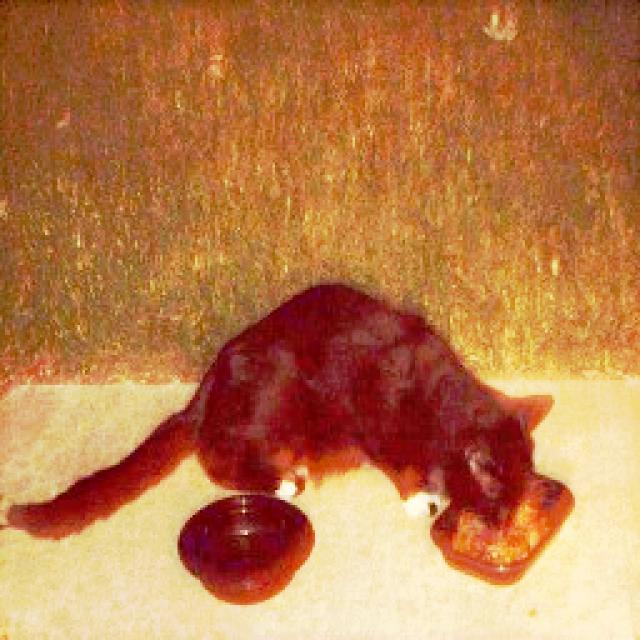cat: (1, 278, 561, 562)
